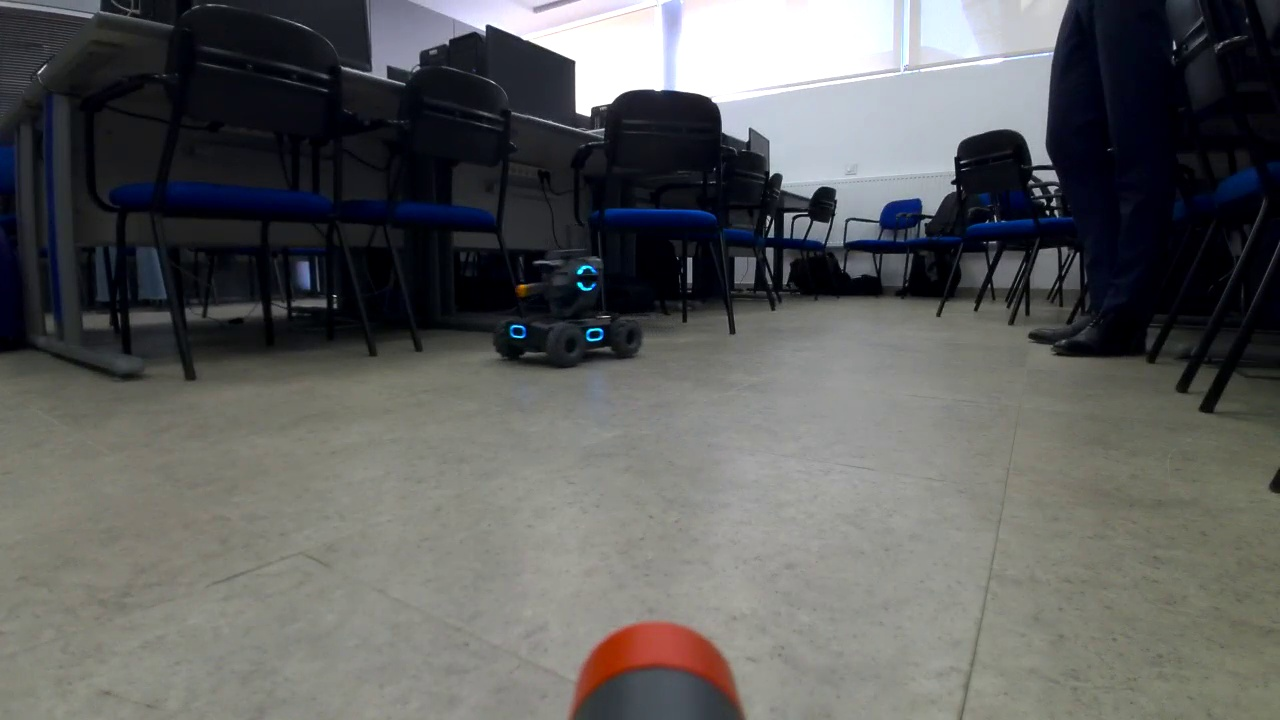robot: (489, 244, 645, 372)
